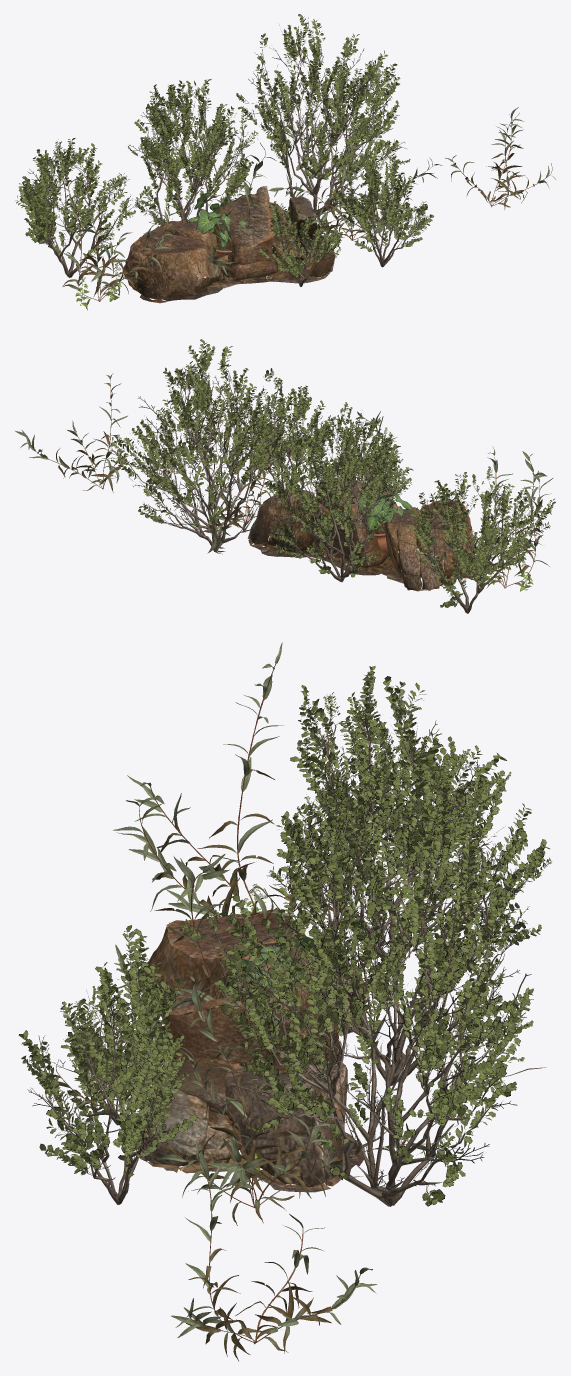
Rendered from plants.glb.
The picture shows the model from 3 angles, top to bottom: view 1: azimuth 30°, elevation 25°; view 2: azimuth 150°, elevation 25°; view 3: azimuth 270°, elevation 25°; orthographic projection. The views are drawn at different scales.
Visible parts, largest first — view 1: searsia_lucida_a_LOD0, boulder_02, searsia_lucida_b_LOD0, searsia_lucida_c_LOD0, searsia_lucida_d_LOD0, searsia_lucida_e_LOD0, shrub_02_a, shrub_02_c, shrub_02_d, potted_plant_02_leaves, shrub_02_b, shrub_01_a; view 2: searsia_lucida_a_LOD0, searsia_lucida_b_LOD0, boulder_02, searsia_lucida_c_LOD0, searsia_lucida_d_LOD0, shrub_02_a, shrub_02_c, shrub_02_d, potted_plant_02_leaves, searsia_lucida_e_LOD0; view 3: searsia_lucida_a_LOD0, searsia_lucida_b_LOD0, boulder_02, searsia_lucida_d_LOD0, searsia_lucida_c_LOD0, shrub_02_c, shrub_02_a, shrub_02_d, searsia_lucida_e_LOD0, shrub_02_b, potted_plant_02_leaves.
Boxes of the visible parts, <box> form: searsia_lucida_a_LOD0: <box>236,14,410,217</box>; boulder_02: <box>123,186,335,303</box>; searsia_lucida_b_LOD0: <box>128,79,258,225</box>; searsia_lucida_c_LOD0: <box>15,138,155,277</box>; searsia_lucida_d_LOD0: <box>330,142,433,267</box>; searsia_lucida_e_LOD0: <box>258,201,351,286</box>; shrub_02_a: <box>51,162,179,310</box>; shrub_02_c: <box>268,141,442,247</box>; shrub_02_d: <box>445,107,555,209</box>; potted_plant_02_leaves: <box>187,193,245,256</box>; shrub_02_b: <box>203,143,277,277</box>; shrub_01_a: <box>75,247,272,307</box>; searsia_lucida_a_LOD0: <box>106,339,316,552</box>; searsia_lucida_b_LOD0: <box>264,402,403,582</box>; boulder_02: <box>247,476,476,591</box>; searsia_lucida_c_LOD0: <box>406,466,555,613</box>; searsia_lucida_d_LOD0: <box>240,379,338,490</box>; shrub_02_a: <box>434,446,553,588</box>; shrub_02_c: <box>166,405,323,554</box>; shrub_02_d: <box>15,373,127,492</box>; potted_plant_02_leaves: <box>358,492,412,533</box>; searsia_lucida_e_LOD0: <box>329,438,413,497</box>; searsia_lucida_a_LOD0: <box>180,809,546,1206</box>; searsia_lucida_b_LOD0: <box>266,737,551,1085</box>; boulder_02: <box>138,907,366,1192</box>; searsia_lucida_d_LOD0: <box>18,961,197,1204</box>; searsia_lucida_c_LOD0: <box>276,666,511,964</box>; shrub_02_c: <box>52,975,466,1225</box>; shrub_02_a: <box>113,642,418,924</box>; shrub_02_d: <box>171,1140,377,1361</box>; searsia_lucida_e_LOD0: <box>52,925,184,1125</box>; shrub_02_b: <box>115,854,351,1066</box>; potted_plant_02_leaves: <box>219,935,318,1005</box>.
Size of the model in its own units: 6.25 by 2.36 by 2.84.
Materials: 10 (10 with a texture image).
